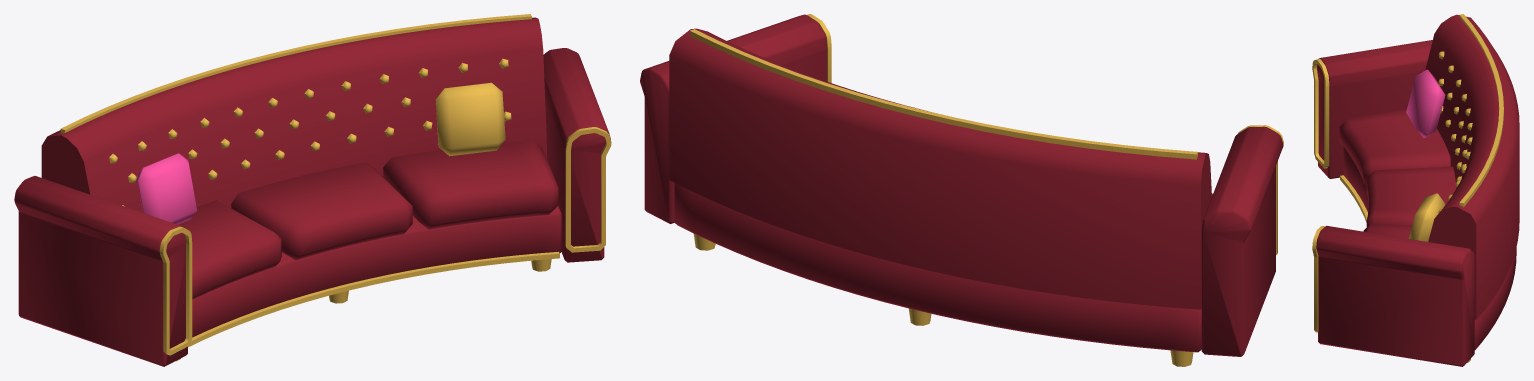
Rendered from Lobby_VIPSofa.fbx.
3 renders of one model, left to right at view 1: azimuth 30°, elevation 25°; view 2: azimuth 150°, elevation 25°; view 3: azimuth 270°, elevation 25°, orthographic. The views are drawn at different scales.
Parts seen in each view (by area): view 1: Velvet, Gold, PillowGold, PillowPink; view 2: Velvet, Gold; view 3: Velvet, Gold, PillowPink, PillowGold.
Part boxes in pixels (<box>): Velvet: <box>14,17,610,366</box>; Gold: <box>60,14,611,361</box>; PillowGold: <box>435,82,505,156</box>; PillowPink: <box>136,153,196,224</box>; Velvet: <box>640,14,1283,356</box>; Gold: <box>690,14,1283,366</box>; Velvet: <box>1316,14,1519,366</box>; Gold: <box>1312,14,1503,362</box>; PillowPink: <box>1406,69,1445,137</box>; PillowGold: <box>1408,193,1445,241</box>.
Bounding box in the file's own units: 898 × 298 × 345.
